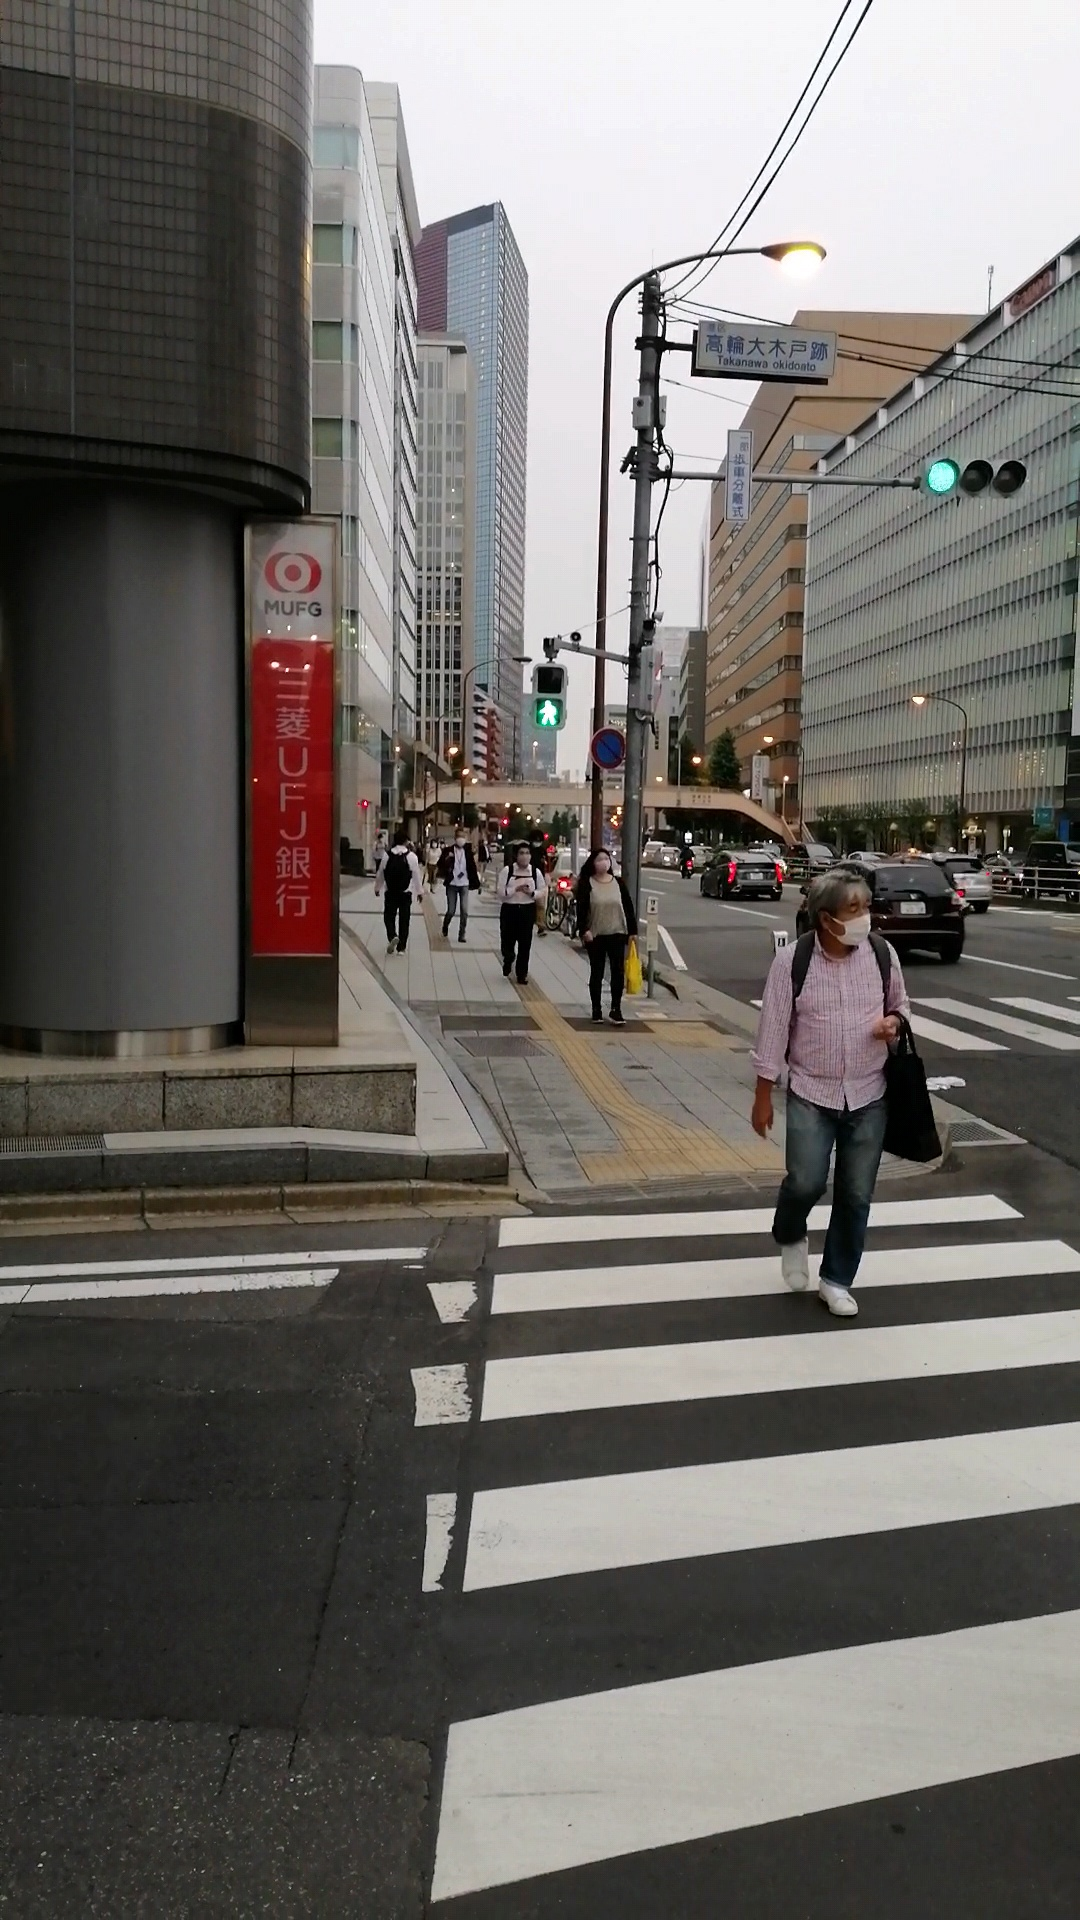green: (530, 663, 564, 728)
